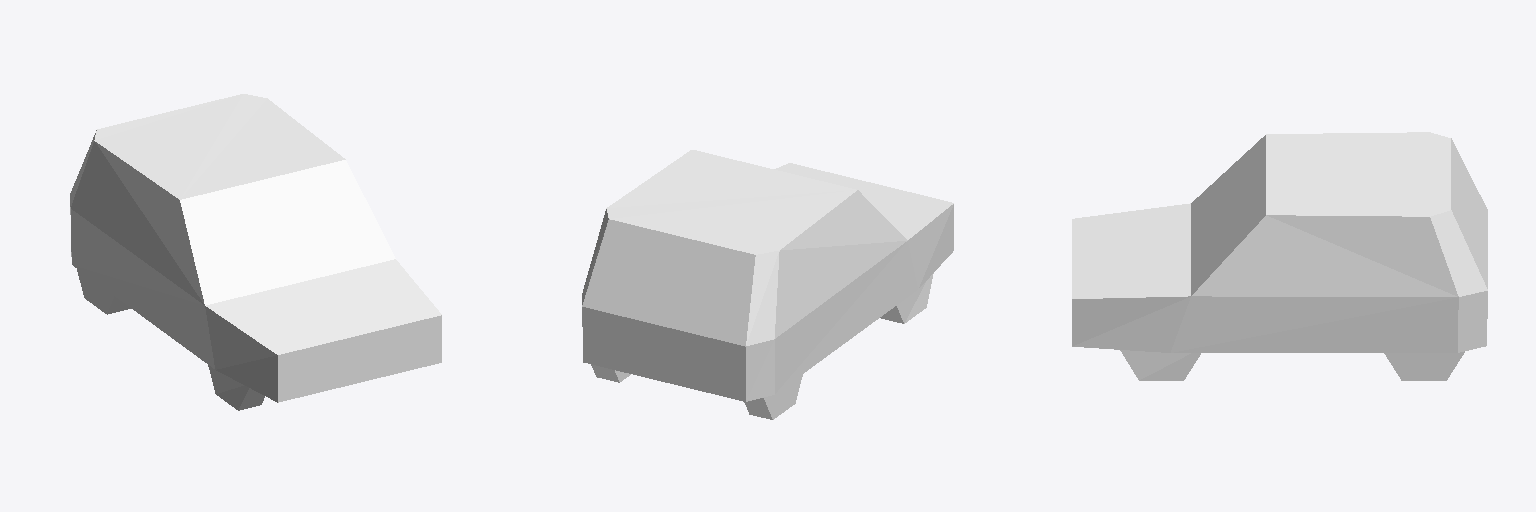
Rendered from my_car.obj.
The picture shows the model from 3 angles: view 1: azimuth 30°, elevation 25°; view 2: azimuth 150°, elevation 25°; view 3: azimuth 270°, elevation 25°; orthographic projection.
Parts seen in each view (by area): view 1: Object.1, Object.5, Object.3; view 2: Object.1, Object.3, Object.5; view 3: Object.1, Object.4, Object.2.
Part boxes in pixels (bbox=[...]): Object.1: bbox=[70, 94, 441, 402]; Object.5: bbox=[208, 365, 264, 410]; Object.3: bbox=[77, 269, 130, 314]; Object.1: bbox=[582, 150, 953, 401]; Object.3: bbox=[744, 374, 802, 419]; Object.5: bbox=[880, 273, 933, 323]; Object.1: bbox=[1072, 132, 1487, 352]; Object.4: bbox=[1120, 350, 1200, 380]; Object.2: bbox=[1384, 351, 1464, 380].
Size of the model in its own units: 51.14 by 41.57 by 95.94.